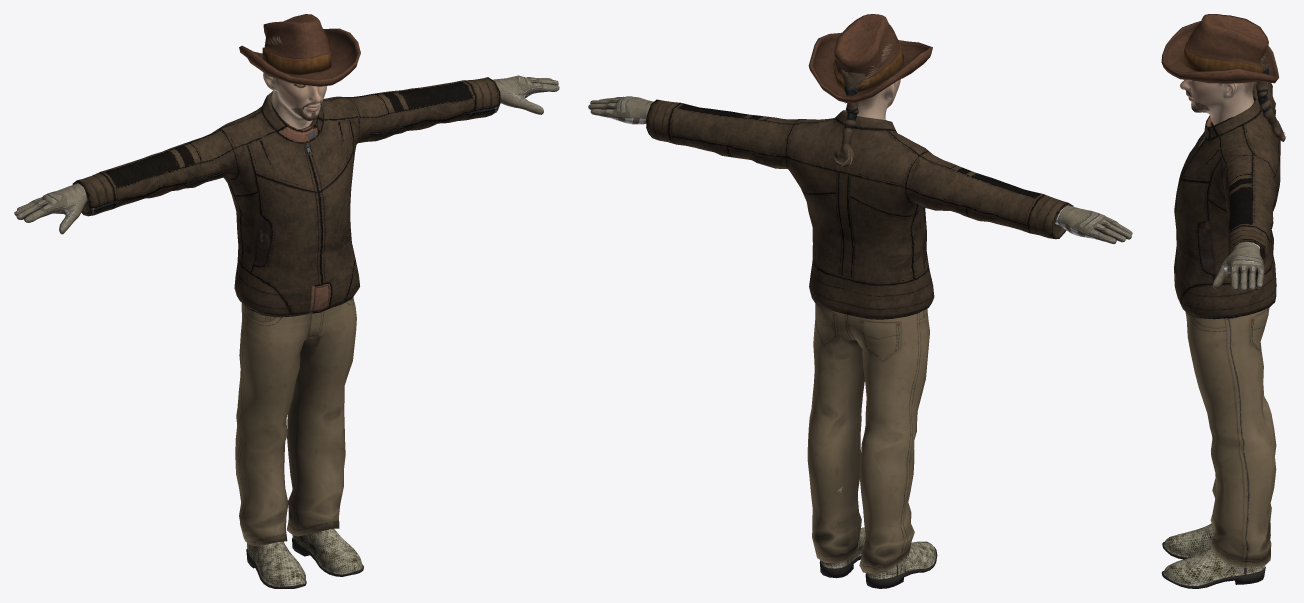
The picture shows the model from 3 angles, left to right: view 1: azimuth 30°, elevation 25°; view 2: azimuth 150°, elevation 25°; view 3: azimuth 270°, elevation 25°; orthographic projection.
Parts seen in each view (by area): view 1: Tops, Bottoms, Hats, Shoes, Gloves, Body; view 2: Tops, Bottoms, Hats, Gloves, Shoes, Hair, Body; view 3: Tops, Bottoms, Hats, Shoes, Body, Gloves, Hair.
Boxes of the visible parts, <box> form: Tops: <box>72,77,500,317</box>; Bottoms: <box>235,297,356,546</box>; Hats: <box>239,14,360,86</box>; Shoes: <box>246,529,363,588</box>; Gloves: <box>14,75,559,234</box>; Body: <box>263,72,326,128</box>; Tops: <box>646,99,1073,319</box>; Bottoms: <box>807,303,929,574</box>; Hats: <box>808,14,932,102</box>; Gloves: <box>588,96,1132,243</box>; Shoes: <box>819,486,937,588</box>; Hair: <box>834,44,892,166</box>; Body: <box>845,79,900,119</box>; Tops: <box>1174,82,1280,319</box>; Bottoms: <box>1185,308,1276,567</box>; Hats: <box>1161,14,1279,83</box>; Shoes: <box>1161,523,1265,588</box>; Body: <box>1180,79,1255,125</box>; Gloves: <box>1212,241,1264,291</box>; Hair: <box>1255,55,1285,141</box>.
Size of the model in its own units: 194 by 188 by 39.64.
Materials: 7 (7 with a texture image).
